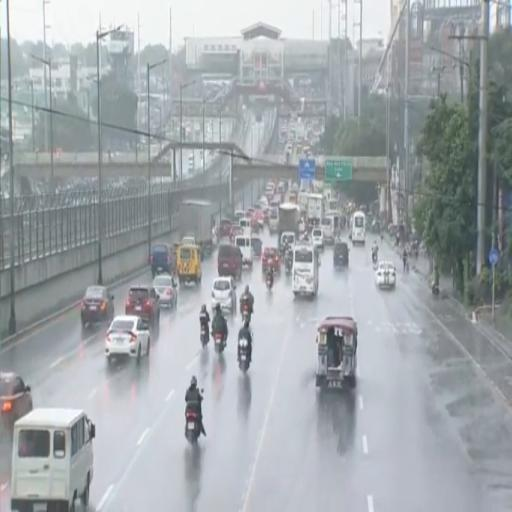car: (105, 315, 150, 362), (0, 372, 32, 436), (125, 285, 160, 328), (81, 285, 114, 329), (212, 277, 236, 314), (153, 275, 178, 309), (218, 245, 242, 280), (150, 244, 172, 277), (375, 261, 396, 289), (333, 240, 349, 267), (262, 248, 280, 271), (312, 228, 324, 250), (230, 224, 243, 243), (219, 219, 232, 237), (251, 236, 262, 257), (254, 210, 264, 228)
motorcycle: (185, 408, 200, 443), (239, 339, 250, 372), (215, 332, 225, 354), (242, 301, 250, 323), (201, 325, 209, 347), (284, 258, 292, 274), (266, 272, 273, 290), (432, 284, 439, 298), (372, 250, 378, 264), (404, 258, 409, 274)
tricycle: (316, 316, 357, 388)
truck: (179, 200, 212, 254), (278, 203, 300, 250), (307, 194, 323, 226)
